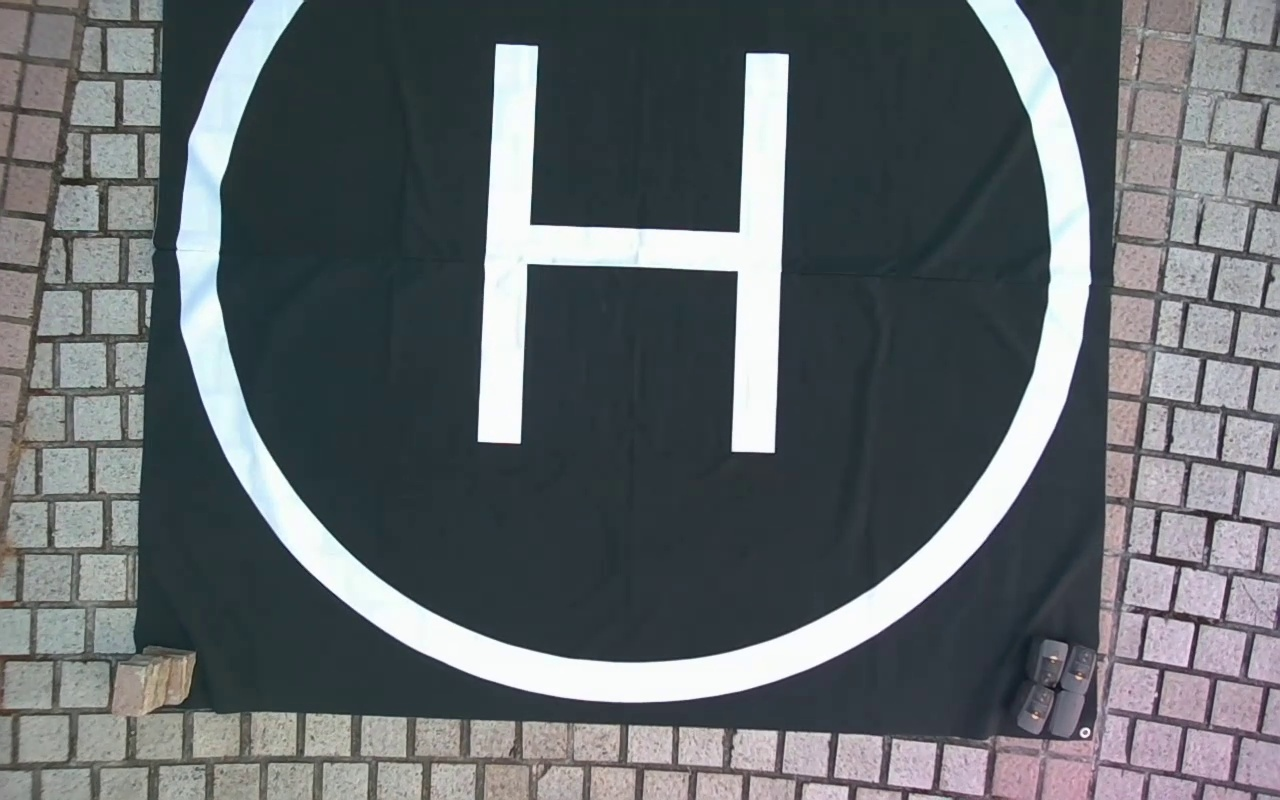H: (478, 41, 791, 456)
